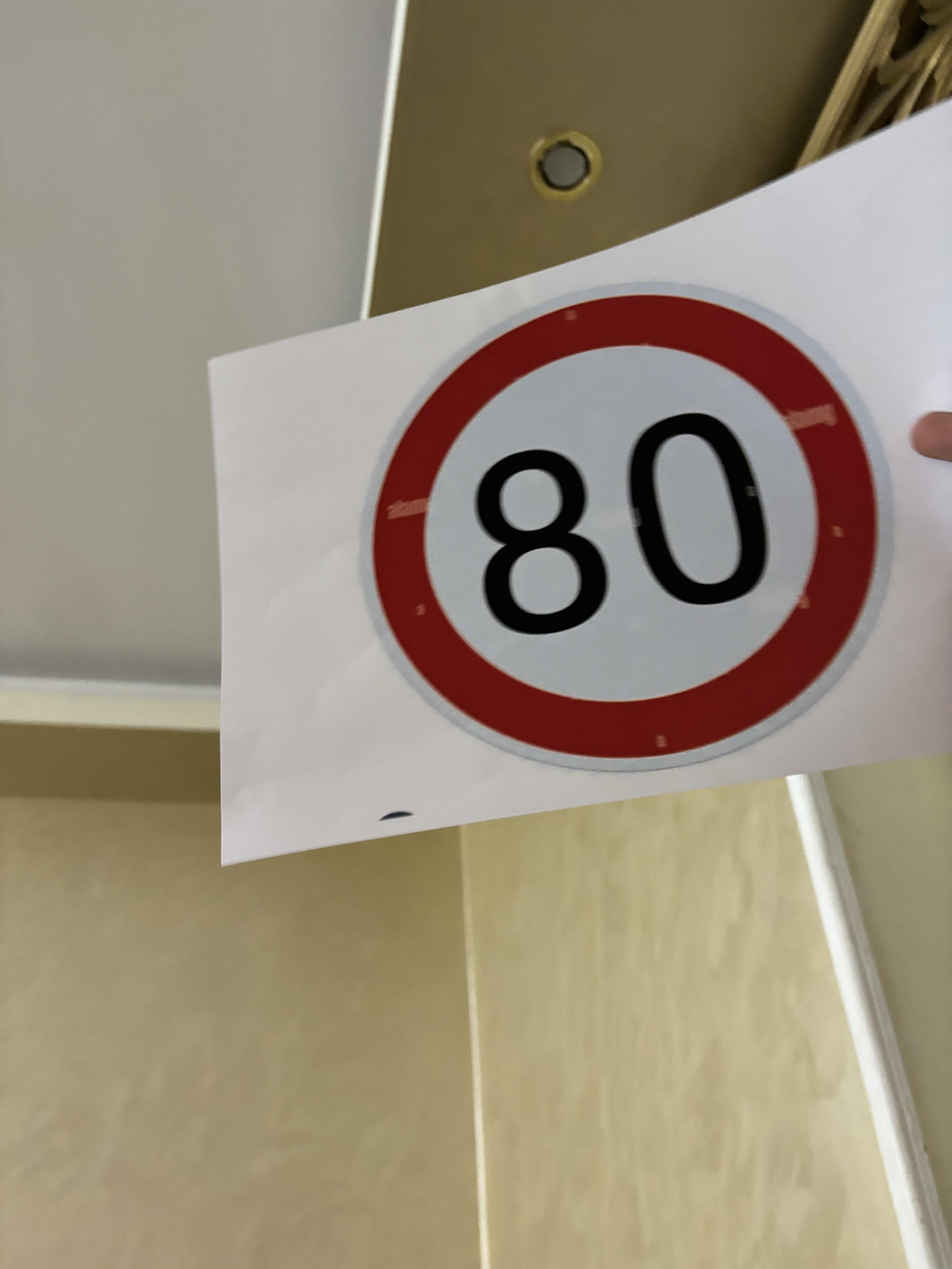80-Speed: (360, 278, 904, 778)
